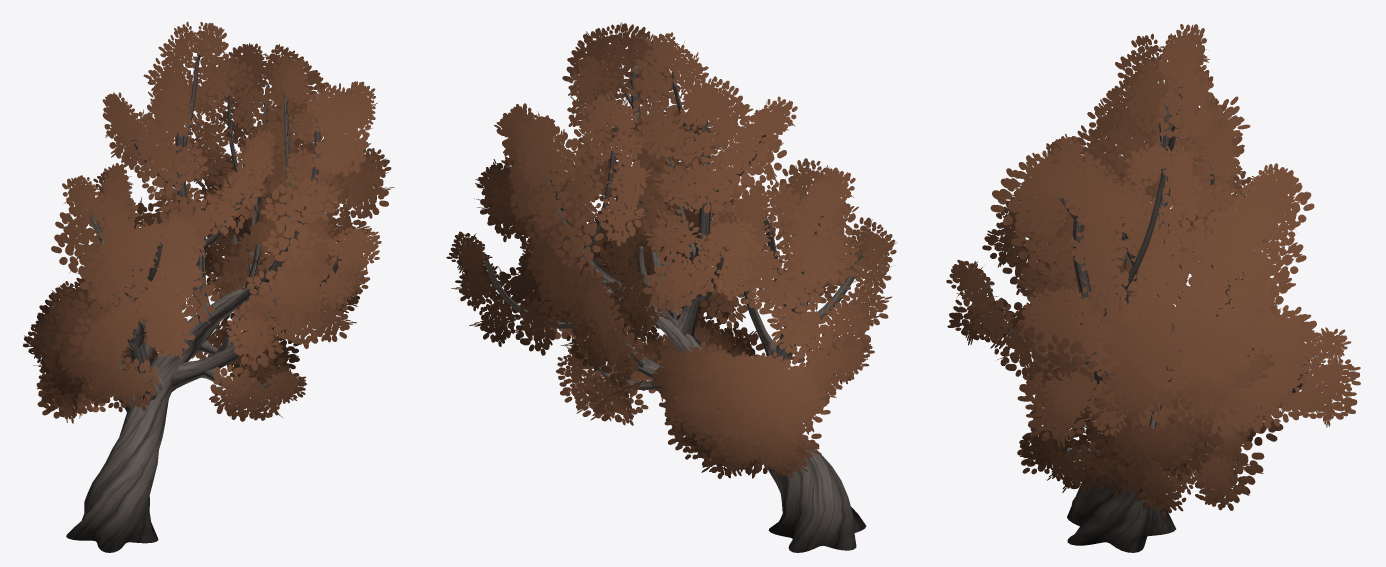
Rendered from TwistedTree_1.gltf.
The picture shows the model from 3 angles, left to right: view 1: azimuth 30°, elevation 25°; view 2: azimuth 150°, elevation 25°; view 3: azimuth 270°, elevation 25°; orthographic projection. The views are drawn at different scales.
Visible parts, largest first — view 1: TwistedTree_1; view 2: TwistedTree_1; view 3: TwistedTree_1.
Boxes of the visible parts, x1,y1,x2,y2 form: TwistedTree_1: (23, 21, 394, 552); TwistedTree_1: (446, 22, 897, 552); TwistedTree_1: (946, 24, 1360, 552).
Bounding box in the file's own units: 13.52 × 16.73 × 11.55.
Materials: 2 (2 with a texture image).
